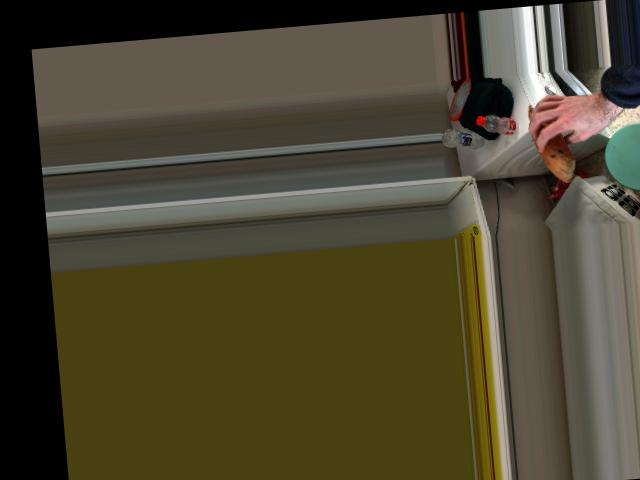sweet_potato: (527, 99, 569, 178)
